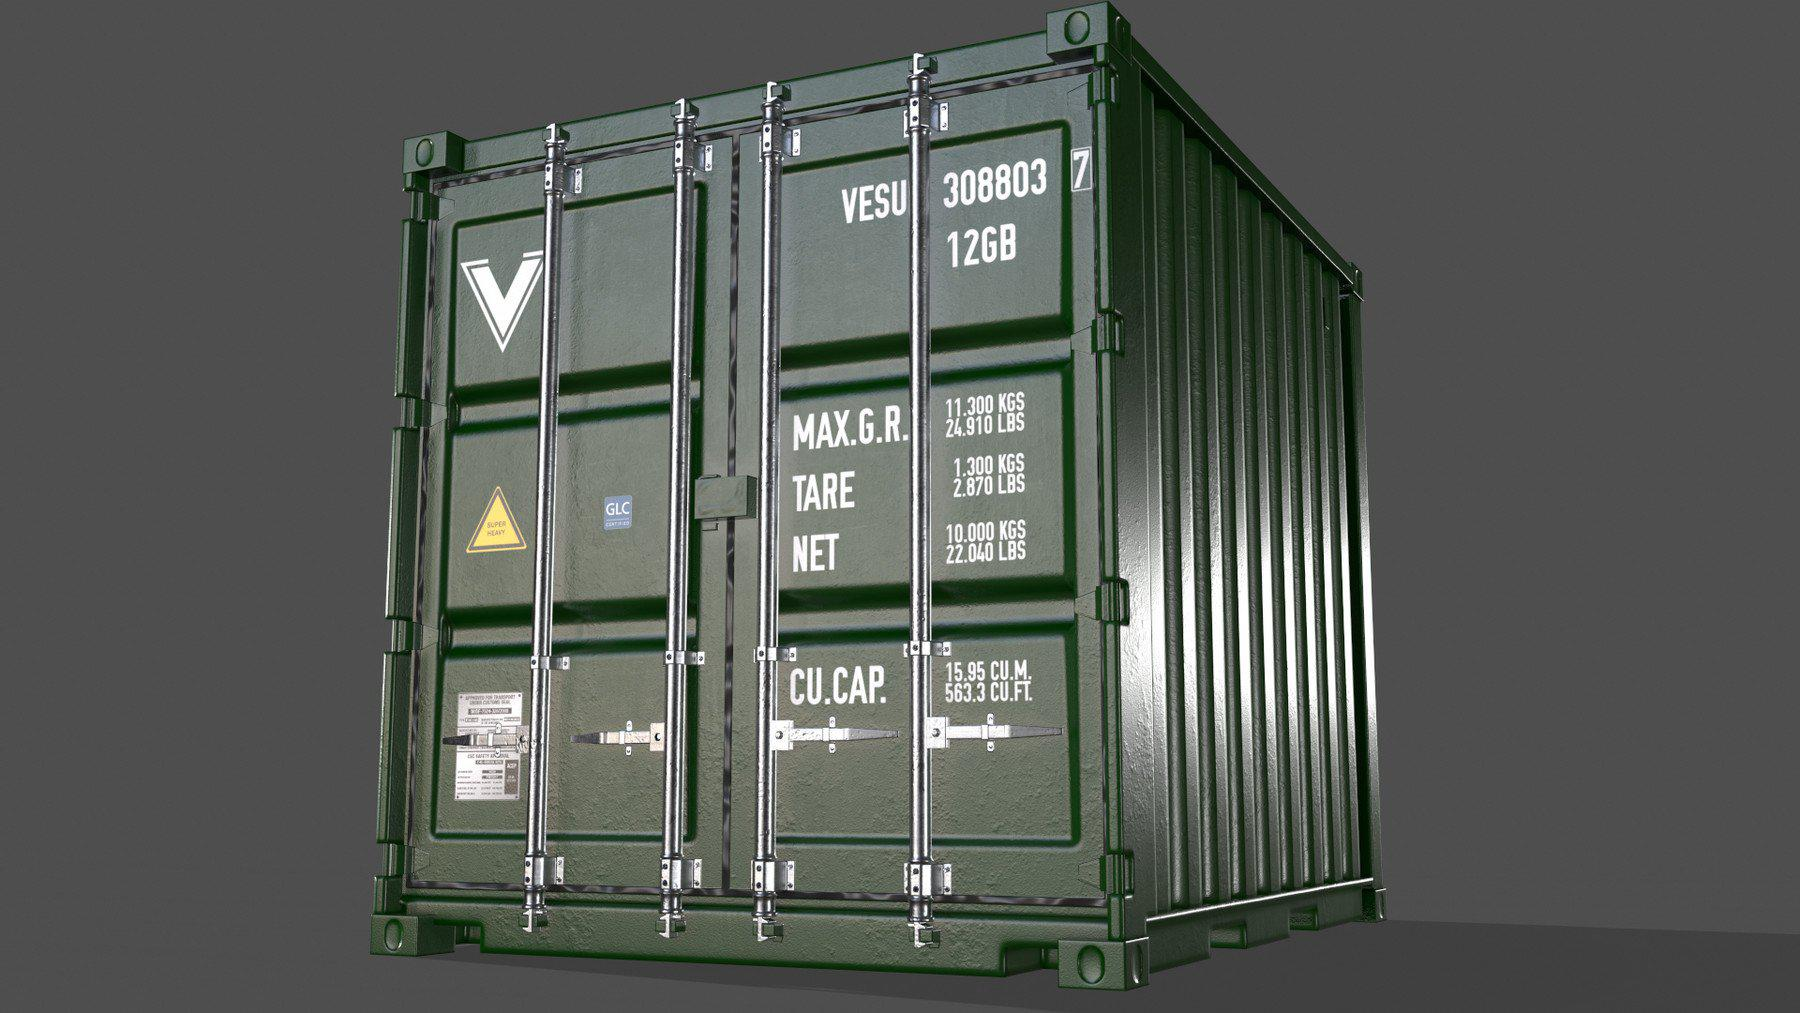ContainerNum: (836, 140, 1102, 272)
